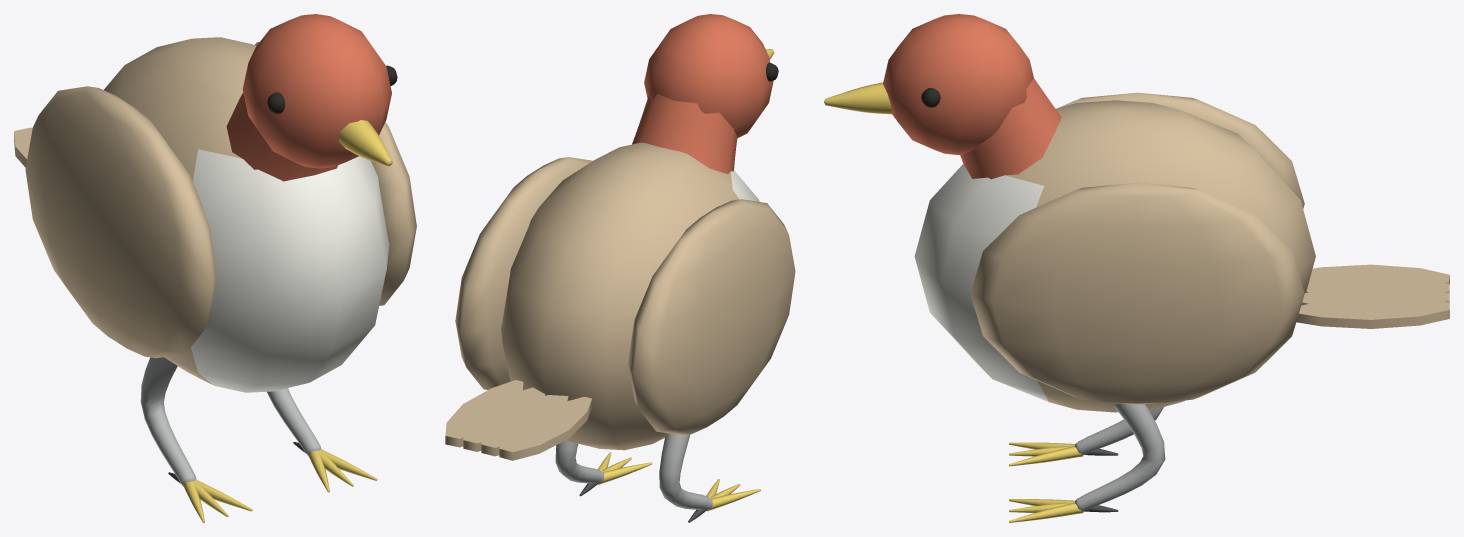
File: birds-and-flying-creatures-goldfinch-41eb8dae__20617.glb
The picture shows the model from 3 angles, left to right: view 1: azimuth 30°, elevation 25°; view 2: azimuth 150°, elevation 25°; view 3: azimuth 270°, elevation 25°; orthographic projection. The views are drawn at different scales.
Visible parts, largest first — view 1: goldfinch; view 2: goldfinch; view 3: goldfinch.
Part boxes in pixels (x1,y1,x2,y2): goldfinch: (14,14,416,522); goldfinch: (445,14,795,522); goldfinch: (824,14,1449,522).
Bounding box in the file's own units: 0.0731 × 0.1286 × 0.1572.
